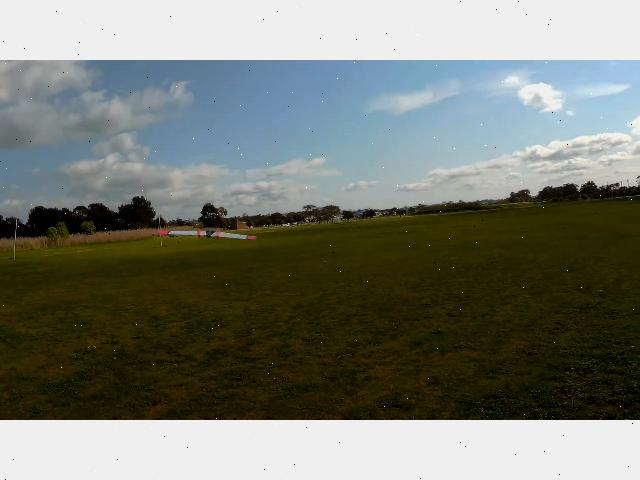Anti-Drone: (152, 205, 260, 260)
